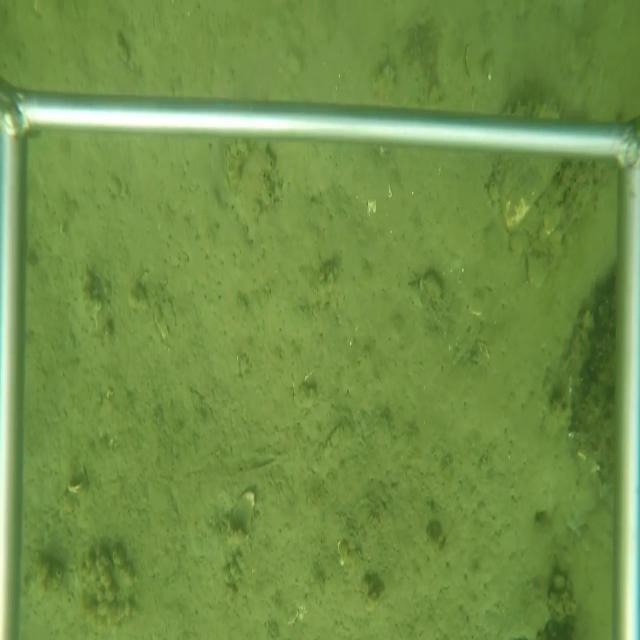Oyster-Indeterminate: (498, 156, 566, 236)
